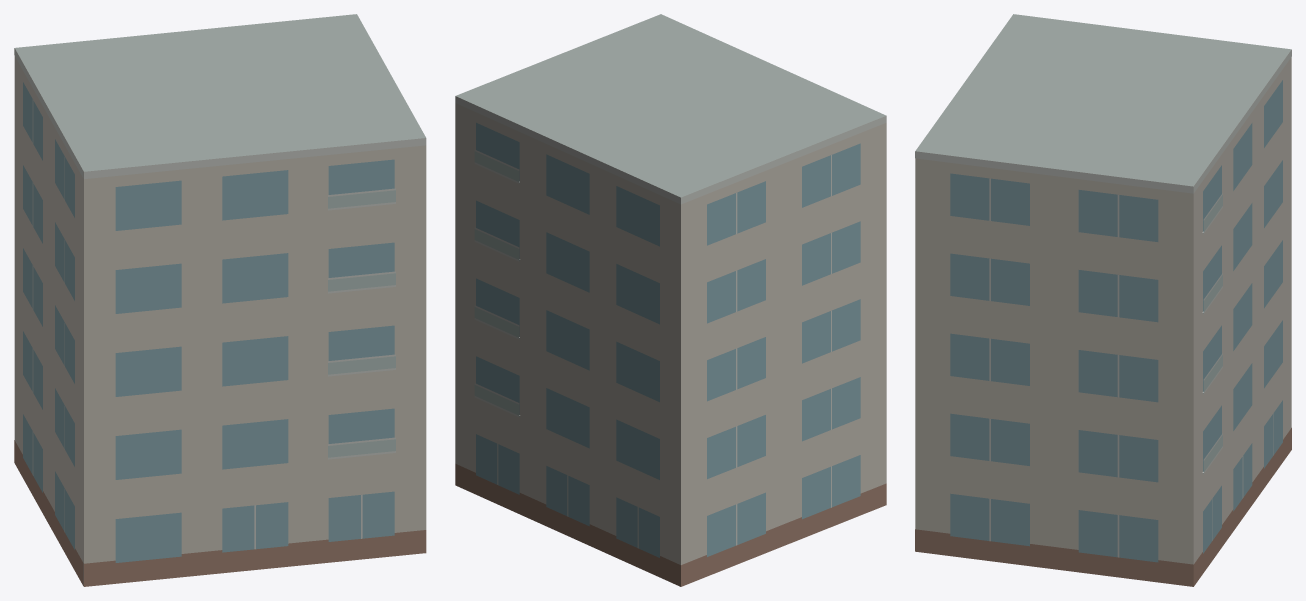
The model's file is survey-upis-32486052.glb.
3 views of the same model, side by side, from view 1: azimuth 30°, elevation 25°; view 2: azimuth 150°, elevation 25°; view 3: azimuth 270°, elevation 25° (orthographic). The views are drawn at different scales.
Visible parts, largest first — view 1: survey-upis-32486052.tmp; view 2: survey-upis-32486052.tmp; view 3: survey-upis-32486052.tmp.
Boxes of the visible parts, x1,y1,x2,y2 form: survey-upis-32486052.tmp: [14, 14, 426, 586]; survey-upis-32486052.tmp: [455, 14, 886, 586]; survey-upis-32486052.tmp: [915, 14, 1291, 586].
Size of the model in its own units: 12.67 by 13.7 by 11.69.
